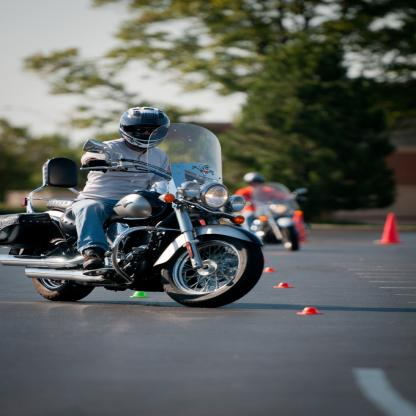Helmet: (116, 107, 168, 147), (242, 173, 266, 186)
